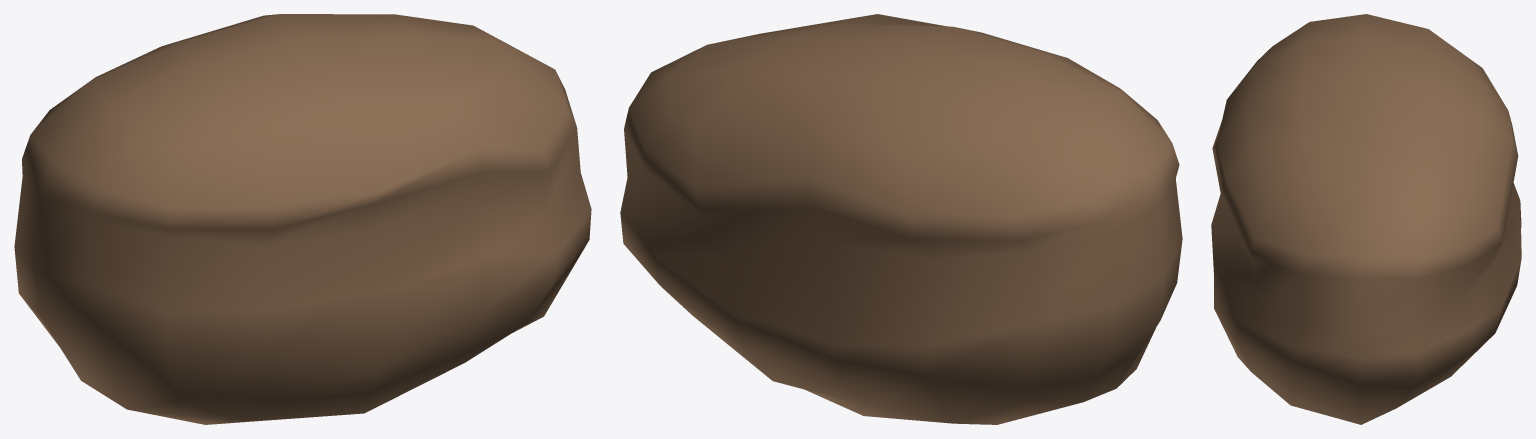
Rendered from rock.fbx.
3 views of the same model, side by side, from view 1: azimuth 30°, elevation 25°; view 2: azimuth 150°, elevation 25°; view 3: azimuth 270°, elevation 25° (orthographic). The views are drawn at different scales.
Parts seen in each view (by area): view 1: rock; view 2: rock; view 3: rock.
Boxes of the visible parts, x1,y1,x2,y2 form: rock: (14, 14, 591, 424); rock: (620, 14, 1182, 424); rock: (1211, 14, 1521, 424).
Size of the model in its own units: 7.31 by 4.6 by 4.32.
